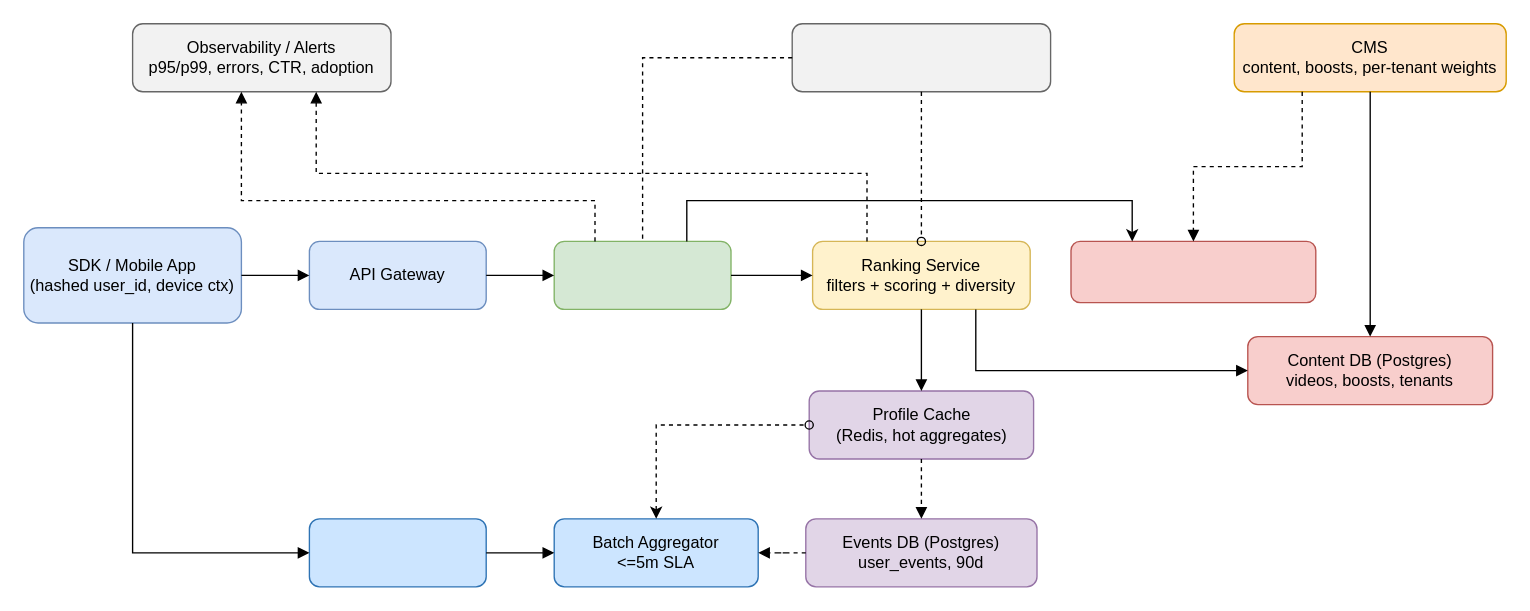
This 1530x611 diagram has some shape labels left out. The box of each missing label's shape, as (x1, y1, x2, y2) in pixels:
Event Ingest (stream/queue): (308, 517, 486, 587)
Feature Flags kill switch, rollout, tenant weights: (791, 22, 1051, 92)
Feed Cache (Redis, 45s TTL): (1070, 240, 1316, 303)
Feed Service: (553, 240, 731, 309)
